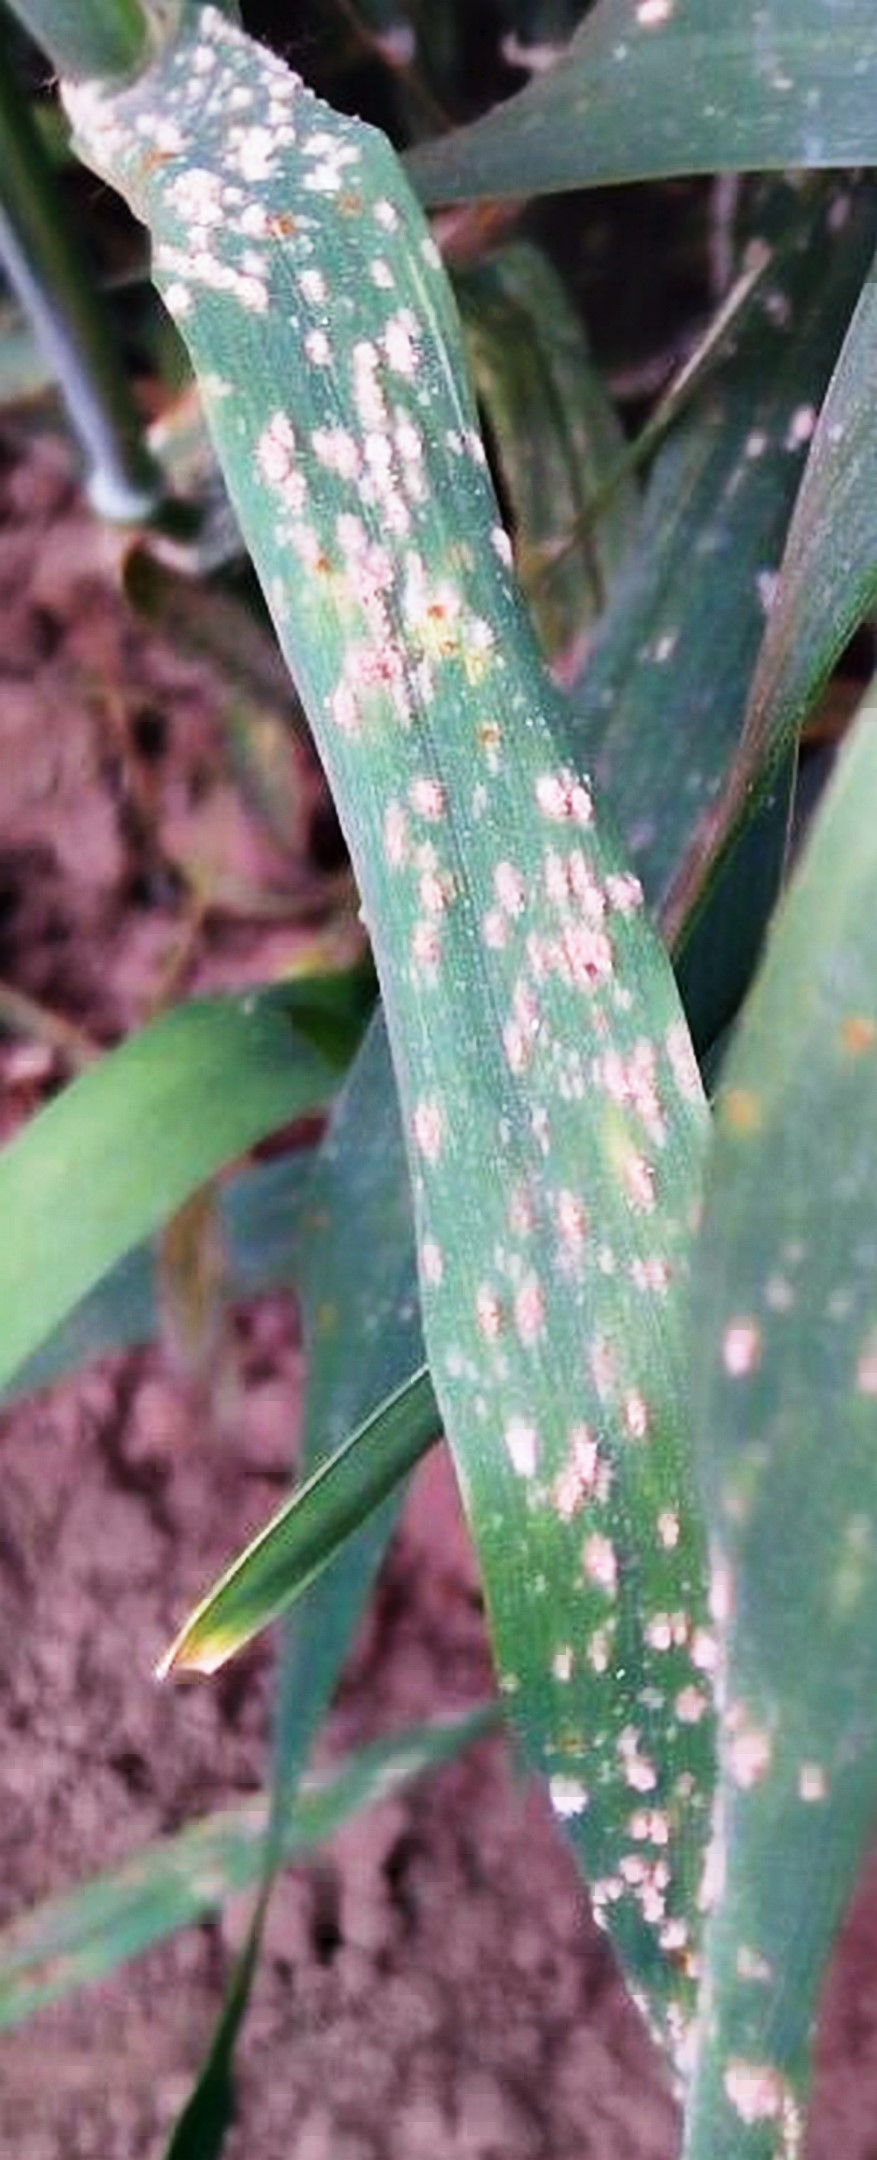Powdery Mildew: (169, 163, 716, 1738)
